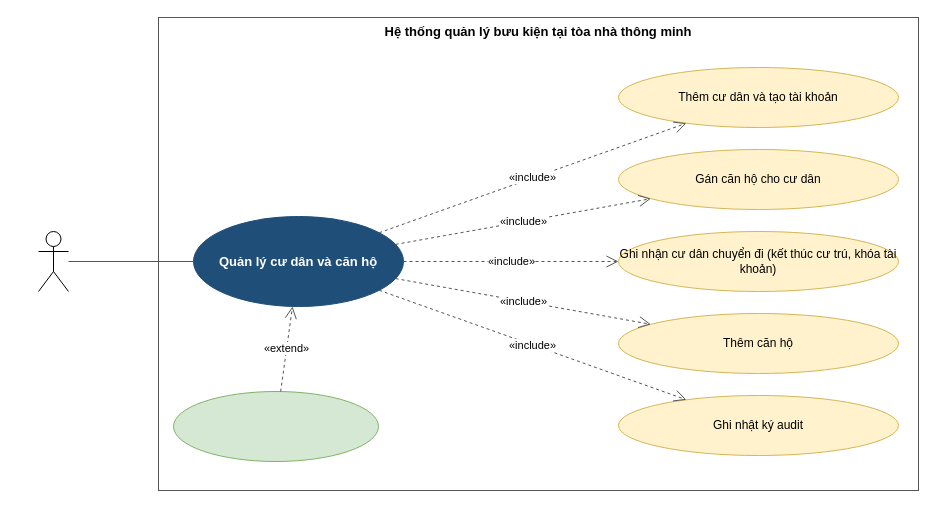
The diagram is 936 pixels wide and 508 high, and some of its shapes have lost their labels. Here are the shapes that lost their labels. From the top down, the centre of each, then its label:
pixel 53 261: Quản trị viên
pixel 275 426: Cho biết số bưu kiện chưa nhận ở căn hộ không còn người ở
